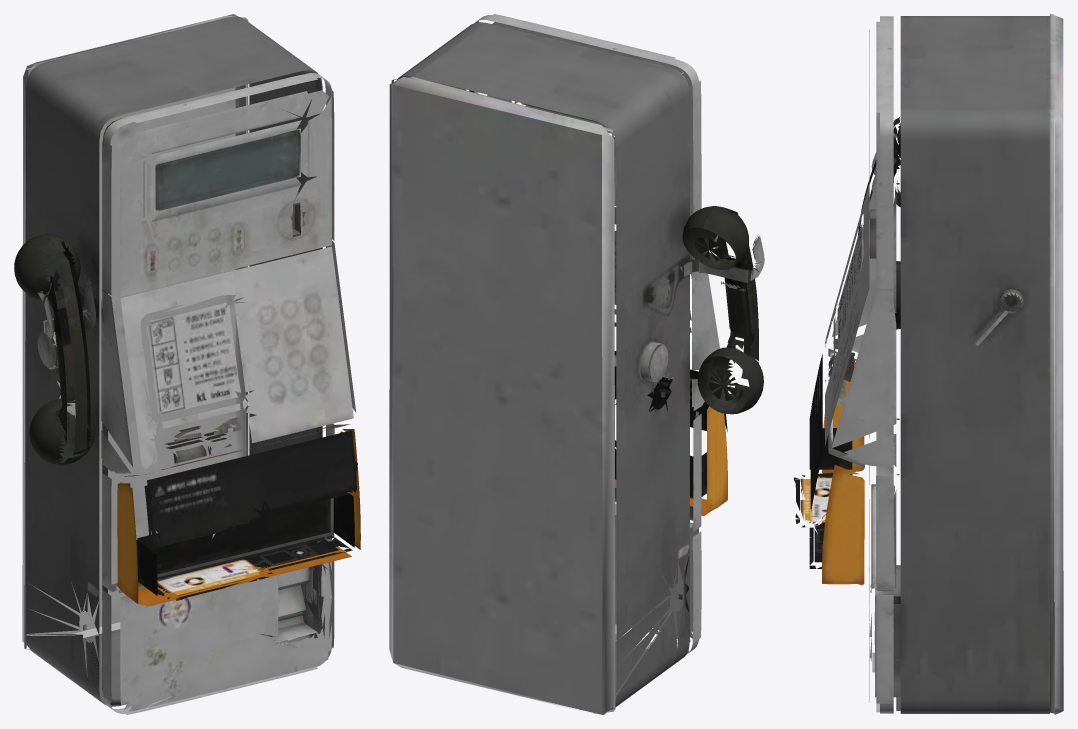
Rendered from payphone.glb.
3 renders of one model, left to right at view 1: azimuth 30°, elevation 25°; view 2: azimuth 150°, elevation 25°; view 3: azimuth 270°, elevation 25°, orthographic.
Visible parts, largest first — view 1: payphone; view 2: payphone; view 3: payphone.
Part boxes in pixels (box(x1,y1,x2,y2)): payphone: box(14, 14, 360, 714); payphone: box(389, 14, 764, 714); payphone: box(793, 14, 1063, 714).
Size of the model in its own units: 0.3993 by 0.7378 by 0.3002.
1 material, 1 textured.
